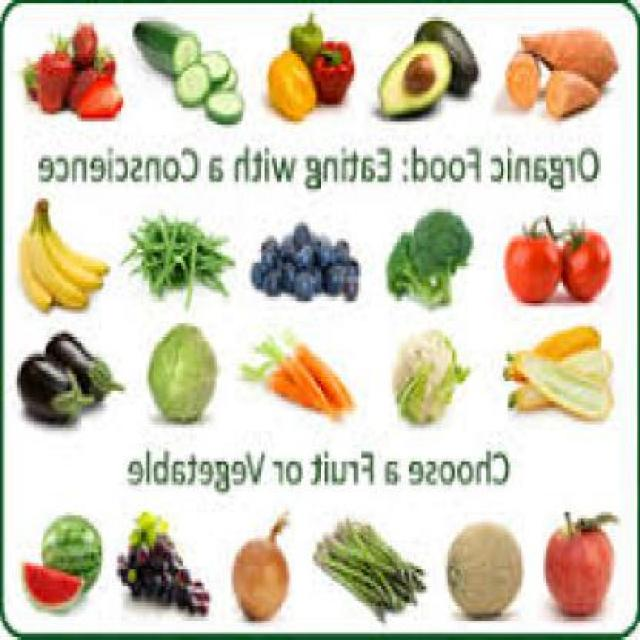BIODEGRADABLE: (314, 515, 428, 623), (123, 208, 239, 304), (21, 196, 110, 310), (118, 509, 212, 613), (252, 216, 363, 299), (392, 205, 474, 304), (546, 509, 620, 613), (397, 326, 474, 425), (510, 344, 616, 414), (150, 320, 222, 422), (450, 518, 522, 614), (508, 350, 614, 412), (235, 515, 294, 620), (282, 327, 358, 404), (46, 330, 128, 401), (380, 38, 451, 118), (522, 27, 621, 84), (22, 350, 98, 421), (264, 337, 334, 414), (241, 357, 344, 408), (505, 323, 604, 374), (419, 17, 481, 97), (44, 512, 105, 592), (49, 198, 113, 270), (508, 220, 563, 302), (135, 13, 202, 78), (36, 229, 92, 306), (41, 219, 105, 286), (562, 226, 612, 300), (269, 47, 320, 118), (310, 37, 356, 105), (22, 222, 56, 313), (22, 560, 89, 606), (549, 67, 602, 118), (40, 44, 74, 108), (510, 43, 544, 105), (82, 71, 125, 114), (178, 58, 212, 104), (292, 14, 322, 60), (208, 88, 248, 121), (200, 47, 234, 81), (185, 239, 202, 304), (70, 64, 96, 104), (77, 21, 98, 67), (212, 60, 240, 92), (25, 58, 43, 98), (96, 44, 118, 74), (344, 259, 359, 296), (298, 265, 317, 293), (252, 256, 268, 287), (327, 262, 344, 290), (322, 229, 335, 263), (294, 222, 312, 246), (281, 259, 296, 287), (269, 265, 282, 290), (337, 232, 349, 256), (264, 232, 279, 250), (298, 249, 311, 269), (308, 229, 320, 249), (261, 249, 277, 263), (281, 235, 294, 252)
